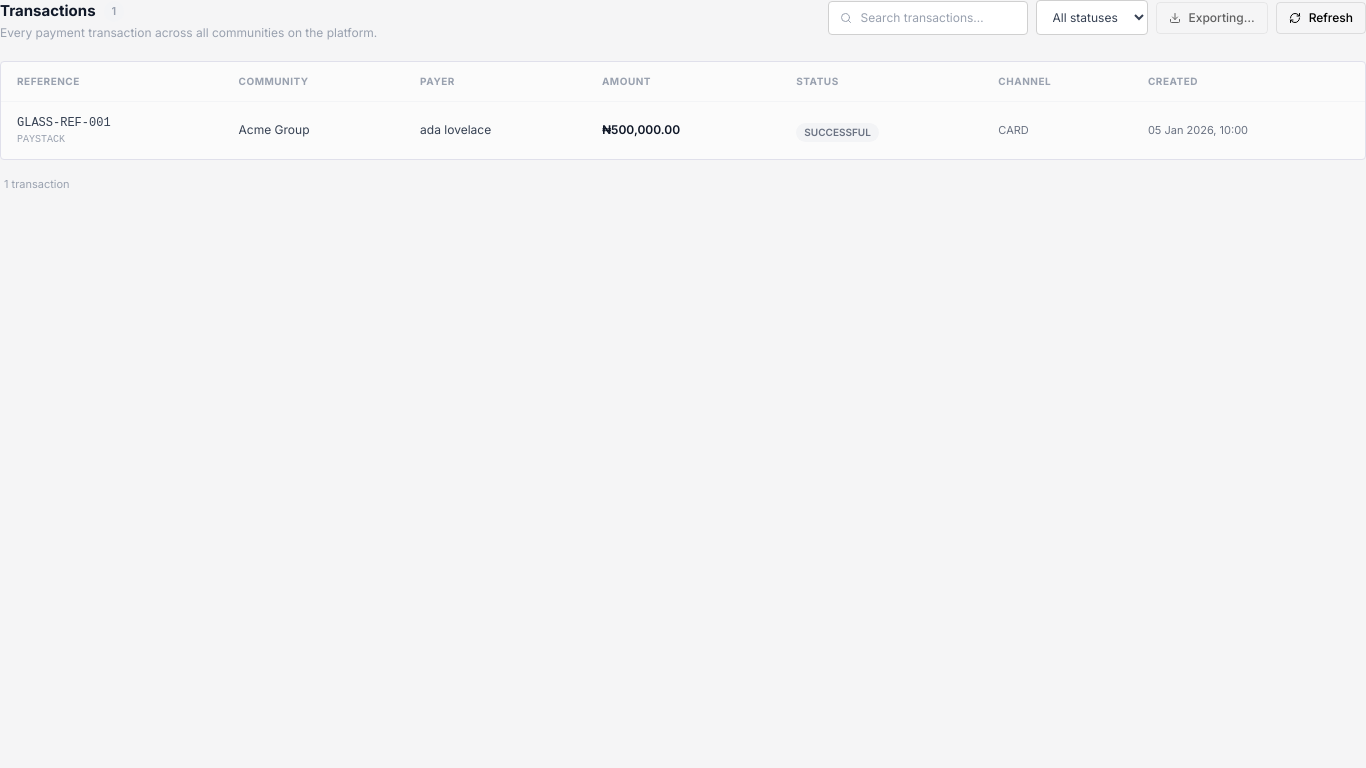
Test: TransactionsSection › opens the detail modal and loads the full transaction
What coordinates should you click on to do the following:
click the text "GLASS-REF-001"
I would click on:
 (64, 122)
Its box is left=17, top=116, right=111, bottom=130.
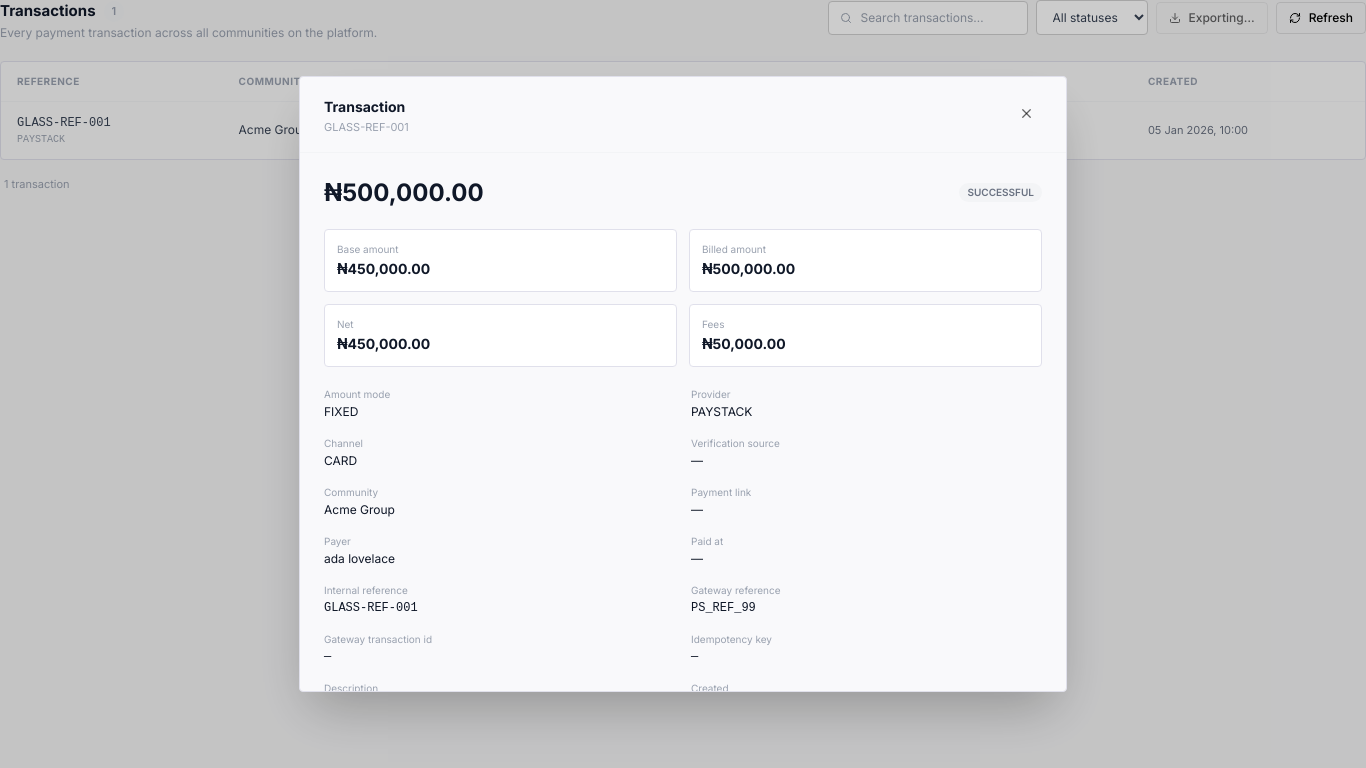
Expected: the text "Gateway reference" is shown, left=691, top=584, right=780, bottom=596
Expected: the text "₦450,000.00" is shown 2 times, left=337, top=260, right=430, bottom=277; left=337, top=335, right=430, bottom=352
Expected: the text "₦50,000.00" is shown, left=702, top=335, right=786, bottom=352
